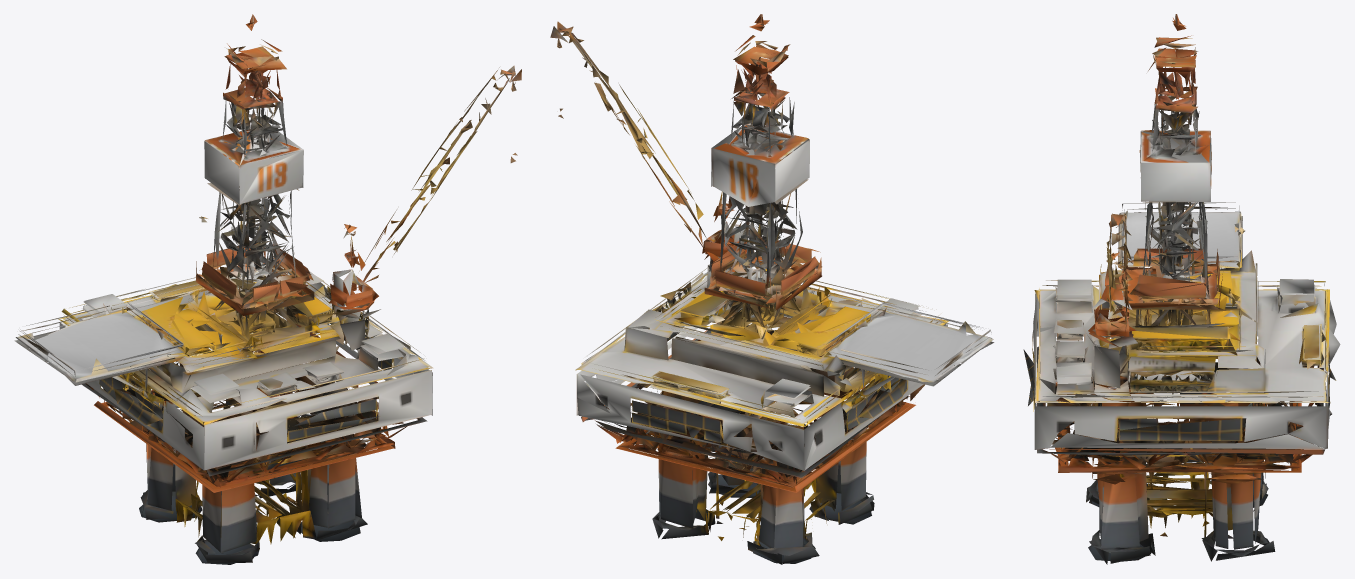
The model's file is oil-rig.glb.
3 views of the same model, side by side, from view 1: azimuth 30°, elevation 25°; view 2: azimuth 150°, elevation 25°; view 3: azimuth 270°, elevation 25° (orthographic).
Visible parts, largest first — view 1: node_0; view 2: node_0; view 3: node_0.
Boxes of the visible parts, x1=… form: node_0: x1=14, y1=14, x2=521, y2=564; node_0: x1=550, y1=14, x2=994, y2=564; node_0: x1=1023, y1=14, x2=1340, y2=564.
Size of the model in its own units: 85.1 by 93.1 by 52.04.
1 material, 1 textured.
